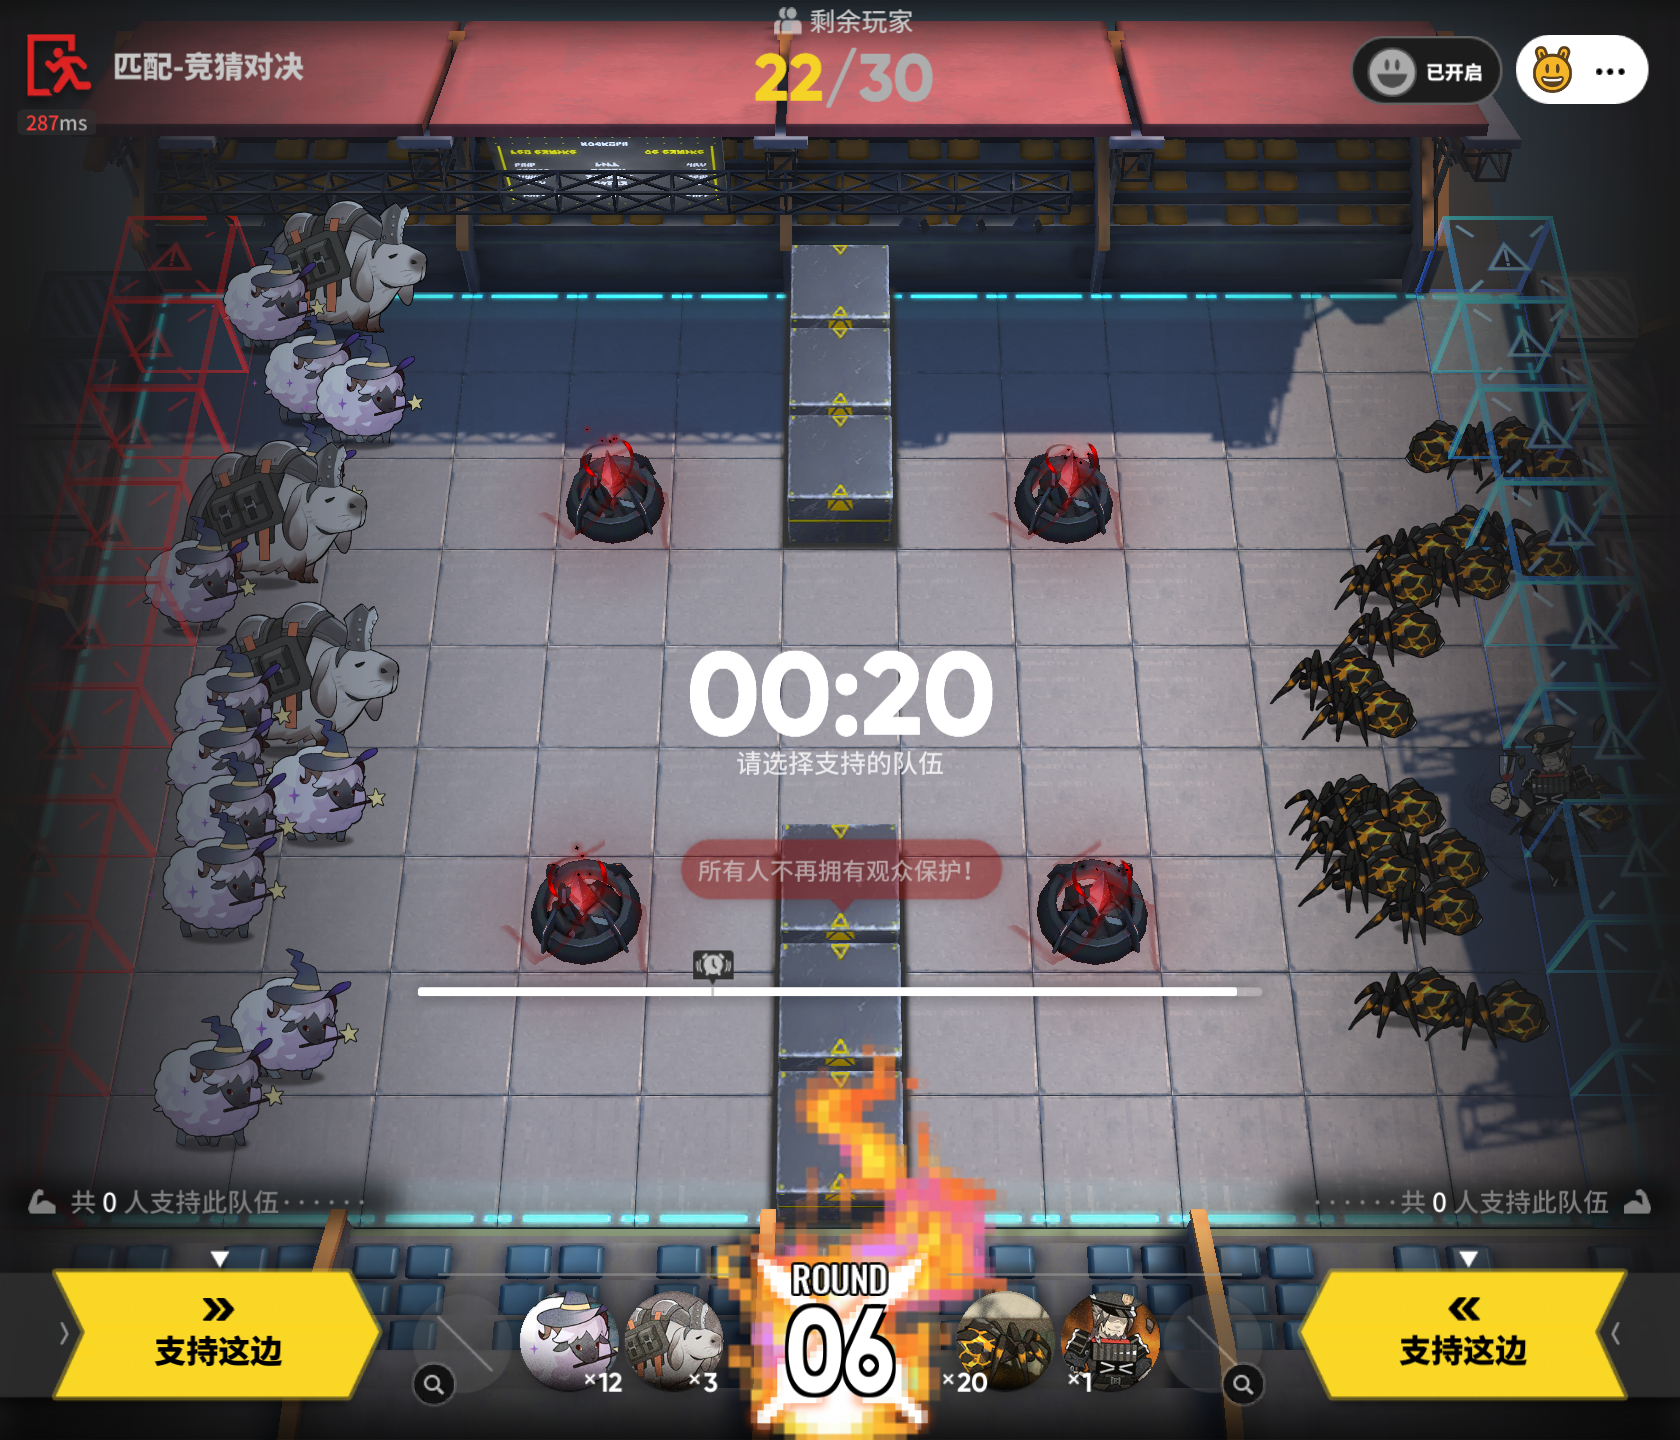安逸的驮兽: (224, 594, 399, 753), (184, 430, 366, 581), (269, 190, 446, 336), (621, 1290, 733, 1389)
易爆源石虫: (949, 1284, 1054, 1394), (1431, 977, 1553, 1057), (1301, 844, 1439, 914), (1361, 876, 1497, 946), (1309, 674, 1429, 750), (1341, 609, 1461, 684), (1356, 961, 1471, 1037), (1274, 637, 1386, 716), (1479, 521, 1586, 593), (1279, 769, 1387, 836), (1336, 550, 1441, 619), (1401, 826, 1499, 887), (1354, 774, 1454, 833), (1304, 810, 1404, 866), (1557, 771, 1641, 837), (1444, 503, 1539, 561), (1486, 439, 1581, 494), (1369, 514, 1469, 567), (1401, 414, 1493, 471), (1426, 546, 1509, 604), (1461, 407, 1547, 454)
星星魔法师: (150, 1014, 289, 1169), (159, 809, 294, 949), (231, 946, 366, 1086), (257, 720, 394, 846), (171, 637, 303, 743), (141, 519, 257, 630), (514, 1281, 626, 1394), (319, 341, 433, 446), (154, 701, 277, 797), (181, 760, 301, 853), (266, 321, 363, 421), (219, 253, 320, 344)
杰斯顿·威廉姆斯: (1499, 711, 1630, 894), (1057, 1281, 1164, 1394)
源石祭坛: (1036, 856, 1149, 966), (530, 856, 643, 966), (563, 434, 666, 543), (1013, 441, 1113, 543)
阻挡物: (767, 1061, 910, 1226), (779, 936, 904, 1067), (776, 821, 901, 944), (781, 411, 899, 539), (789, 321, 891, 407), (789, 244, 890, 321)
